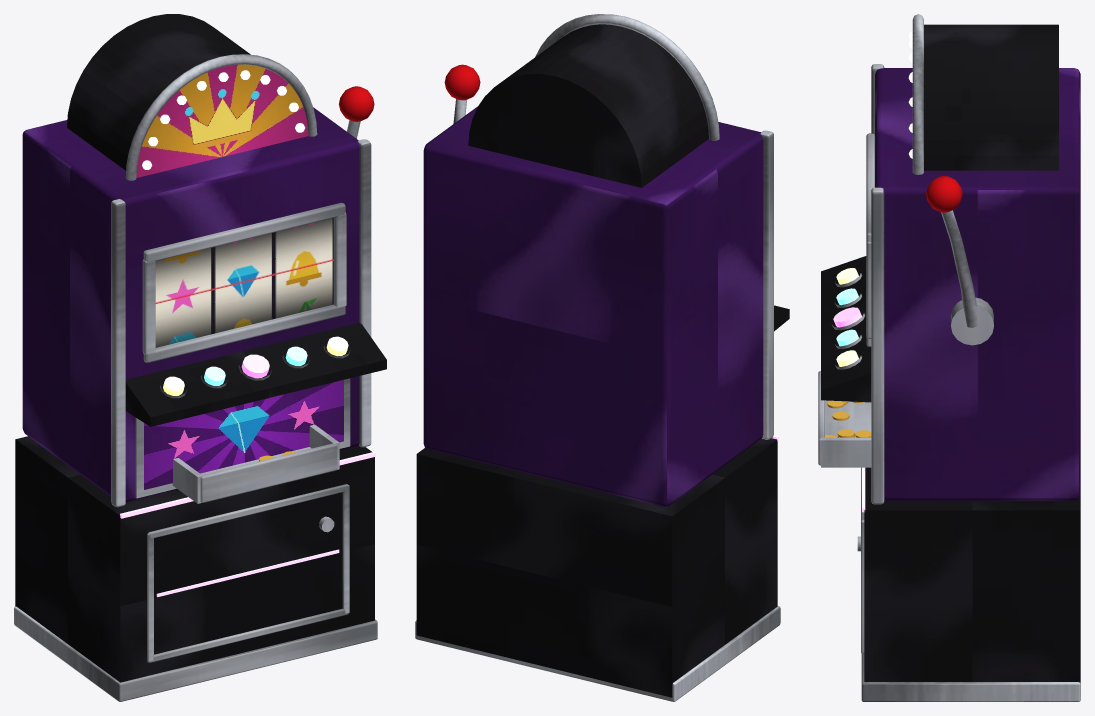
File: prop_slotMachine.glb
3 renders of one model, left to right at view 1: azimuth 30°, elevation 25°; view 2: azimuth 150°, elevation 25°; view 3: azimuth 270°, elevation 25°, orthographic. The views are drawn at different scales.
Parts seen in each view (by area): view 1: prop; view 2: prop; view 3: prop.
Part boxes in pixels (<box>): prop: <box>14,14,386,701</box>; prop: <box>415,14,789,701</box>; prop: <box>818,14,1080,701</box>.
Size of what is drawn, in the model's own units: 0.644 by 1.25 by 0.485.
13 materials, 6 textured.
